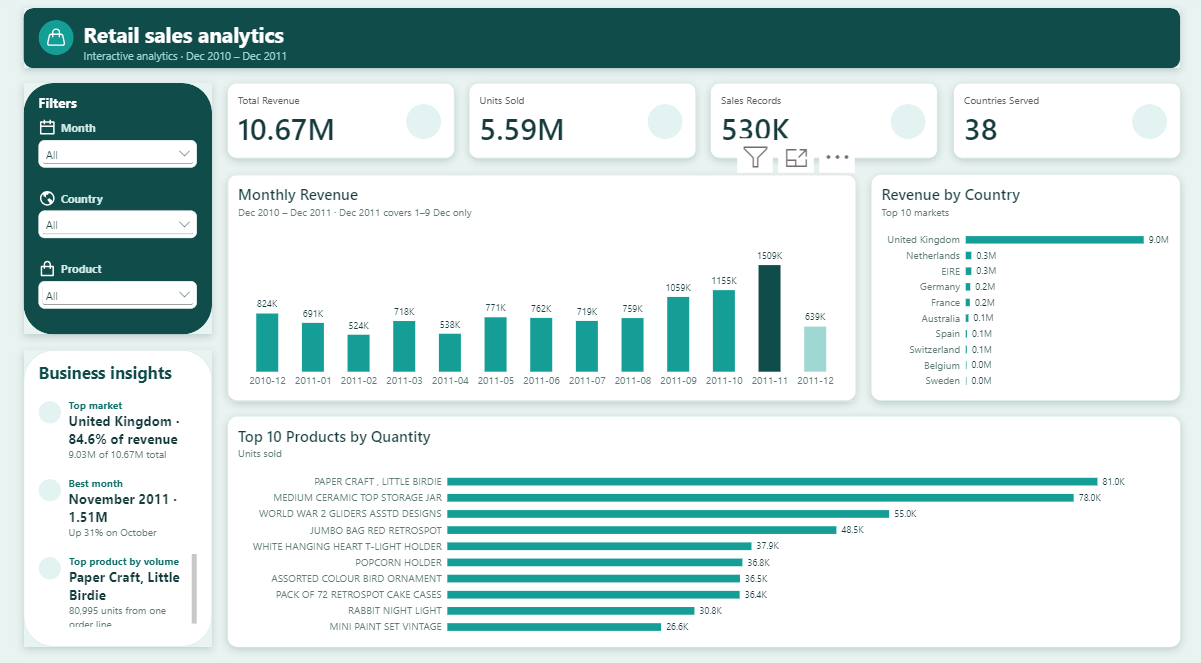

Layout of this report page (visuals, bound fields, positions):
{"tool":"powerbi","page":{"name":"Page 1","canvas":[1920,1080],"ordinal":0},"visuals":[{"type":"shape","box":[40,24,1840,96],"z":10},{"type":"shape","box":[40,144,300,400],"z":20},{"type":"shape","box":[40,568,300,472],"z":30},{"type":"cardVisual","fields":{"Data":["Sum(Retail_Sales_Cleaned (2).Revenue)"]},"box":[364,144,361,120],"z":1000},{"type":"cardVisual","fields":{"Data":["Sum(Retail_Sales_Cleaned (2).Quantity)"]},"box":[749,144,361,120],"z":2000},{"type":"cardVisual","fields":{"Data":["Retail_Sales_Cleaned (2).Sales Records"]},"box":[1134,144,361,120],"z":3000},{"type":"cardVisual","fields":{"Data":["Retail_Sales_Cleaned (2).Unique Countries KPI"]},"box":[1519,144,361,120],"z":4000},{"type":"clusteredColumnChart","title":"Monthly Revenue","fields":{"Category":["Retail_Sales_Cleaned (2).Month"],"Y":["Sum(Retail_Sales_Cleaned (2).Revenue)"]},"box":[364,288,1000,360],"z":5000},{"type":"clusteredBarChart","title":"Revenue by Country","fields":{"Category":["Retail_Sales_Cleaned (2).Country"],"Y":["Sum(Retail_Sales_Cleaned (2).Revenue)"]},"box":[1388,288,492,360],"z":6000},{"type":"clusteredBarChart","title":"Top 10 Products by Quantity","fields":{"Category":["Retail_Sales_Cleaned (2).Description"],"Y":["Sum(Retail_Sales_Cleaned (2).Quantity)"]},"box":[364,672,1516,368],"z":7000},{"type":"slicer","fields":{"Values":["Retail_Sales_Cleaned (2).Country"]},"box":[64,346,252,44],"z":8000},{"type":"shape","box":[649,176,56,56],"z":8500},{"type":"shape","box":[1034,176,56,56],"z":8501},{"type":"shape","box":[1419,176,56,56],"z":8502},{"type":"shape","box":[1804,176,56,56],"z":8503},{"type":"slicer","fields":{"Values":["Retail_Sales_Cleaned (2).Month"]},"box":[64,234,252,44],"z":9000},{"type":"slicer","fields":{"Values":["Retail_Sales_Cleaned (2).Description"]},"box":[64,458,252,44],"z":10000},{"type":"textbox","box":[136,42.9,381.7,76.3],"z":11000},{"type":"textbox","box":[64,160,252,34],"z":11100},{"type":"textbox","box":[100,202,200,28],"z":11200},{"type":"textbox","box":[100,314,200,28],"z":11200},{"type":"textbox","box":[100,426,200,28],"z":11200},{"type":"shape","box":[64,44,56,56],"z":11500},{"type":"textbox","box":[64,584,252,40],"z":12000},{"type":"shape","box":[64,648,36,36],"z":12500},{"type":"shape","box":[64,772,36,36],"z":12500},{"type":"shape","box":[64,896,36,36],"z":12500},{"type":"textbox","box":[112,644,204,116],"z":12600},{"type":"textbox","box":[112,768,204,116],"z":12600},{"type":"textbox","box":[112,892,204,116],"z":12600},{"type":"image","box":[76,56,32,32],"z":13003},{"type":"image","box":[64,200,28,28],"z":13200},{"type":"image","box":[64,312,28,28],"z":13312},{"type":"image","box":[64,424,28,28],"z":13424}]}

Visuals, with their boxes in screenshot pixels (x1, y1, x2, y2), scaled from the page's 1920x1080 canvas onto the 1201x663 screenshot:
shape: <region>25, 15, 1176, 74</region>
shape: <region>25, 88, 213, 334</region>
shape: <region>25, 349, 213, 638</region>
cardVisual - Sum(Retail_Sales_Cleaned (2).Revenue): <region>228, 88, 454, 162</region>
cardVisual - Sum(Retail_Sales_Cleaned (2).Quantity): <region>469, 88, 694, 162</region>
cardVisual - Retail_Sales_Cleaned (2).Sales Records: <region>709, 88, 935, 162</region>
cardVisual - Retail_Sales_Cleaned (2).Unique Countries KPI: <region>950, 88, 1176, 162</region>
"Monthly Revenue" clusteredColumnChart: <region>228, 177, 853, 398</region>
"Revenue by Country" clusteredBarChart: <region>868, 177, 1176, 398</region>
"Top 10 Products by Quantity" clusteredBarChart: <region>228, 413, 1176, 638</region>
slicer - Retail_Sales_Cleaned (2).Country: <region>40, 212, 198, 239</region>
shape: <region>406, 108, 441, 142</region>
shape: <region>647, 108, 682, 142</region>
shape: <region>888, 108, 923, 142</region>
shape: <region>1128, 108, 1163, 142</region>
slicer - Retail_Sales_Cleaned (2).Month: <region>40, 144, 198, 171</region>
slicer - Retail_Sales_Cleaned (2).Description: <region>40, 281, 198, 308</region>
textbox: <region>85, 26, 324, 73</region>
textbox: <region>40, 98, 198, 119</region>
textbox: <region>63, 124, 188, 141</region>
textbox: <region>63, 193, 188, 210</region>
textbox: <region>63, 262, 188, 279</region>
shape: <region>40, 27, 75, 61</region>
textbox: <region>40, 359, 198, 383</region>
shape: <region>40, 398, 63, 420</region>
shape: <region>40, 474, 63, 496</region>
shape: <region>40, 550, 63, 572</region>
textbox: <region>70, 395, 198, 467</region>
textbox: <region>70, 471, 198, 543</region>
textbox: <region>70, 548, 198, 619</region>
image: <region>48, 34, 68, 54</region>
image: <region>40, 123, 58, 140</region>
image: <region>40, 192, 58, 209</region>
image: <region>40, 260, 58, 277</region>
